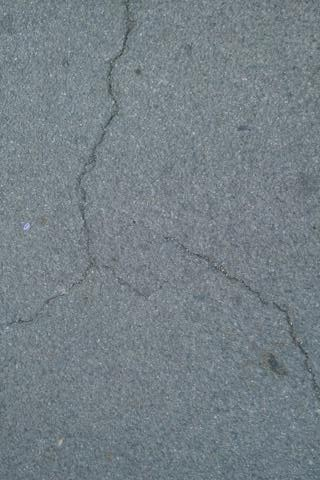A: (1, 1, 140, 323), (171, 235, 320, 401)
